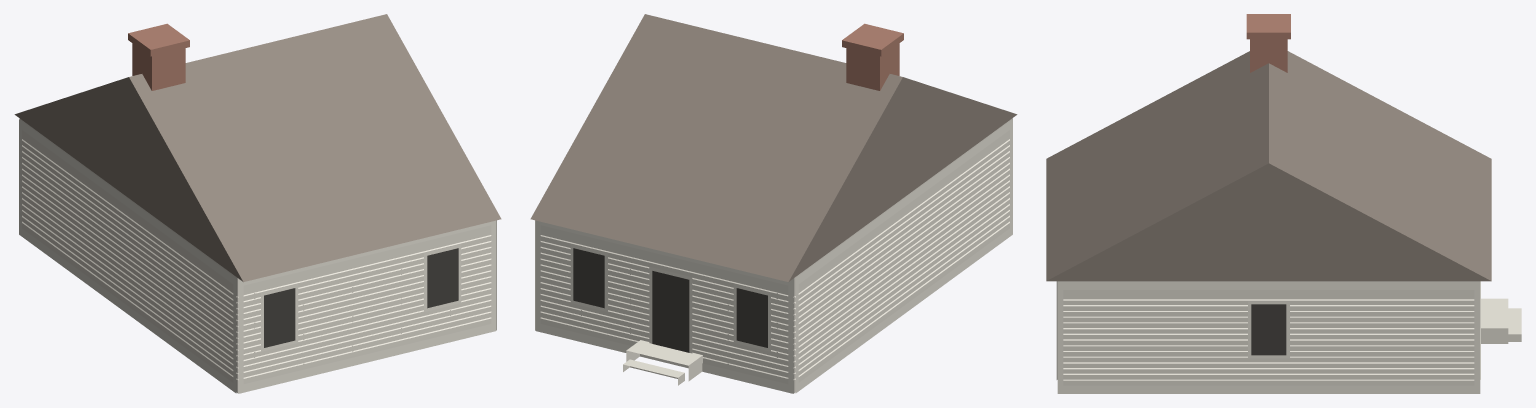
File: recon_1835_blk_randolph_clinton_d5_01__inferred_1835.glb
3 renders of one model, left to right at view 1: azimuth 30°, elevation 25°; view 2: azimuth 150°, elevation 25°; view 3: azimuth 270°, elevation 25°, orthographic. The views are drawn at different scales.
Parts seen in each view (by area): view 1: recon_1835_blk_randolph_clinton_d5_01__inferred_1835; view 2: recon_1835_blk_randolph_clinton_d5_01__inferred_1835; view 3: recon_1835_blk_randolph_clinton_d5_01__inferred_1835.
Boxes of the visible parts, x1,y1,x2,y2 form: recon_1835_blk_randolph_clinton_d5_01__inferred_1835: [14, 14, 501, 393]; recon_1835_blk_randolph_clinton_d5_01__inferred_1835: [530, 14, 1017, 393]; recon_1835_blk_randolph_clinton_d5_01__inferred_1835: [1046, 14, 1521, 393].
Bounding box in the file's own units: 6.5 × 6.41 × 10.55.
